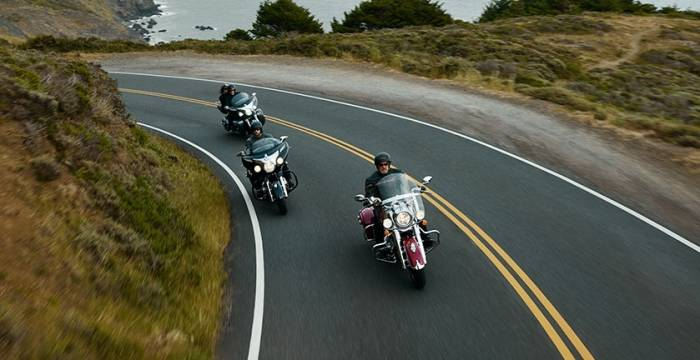bike: (353, 180, 441, 285), (236, 141, 301, 213), (214, 92, 260, 149)
